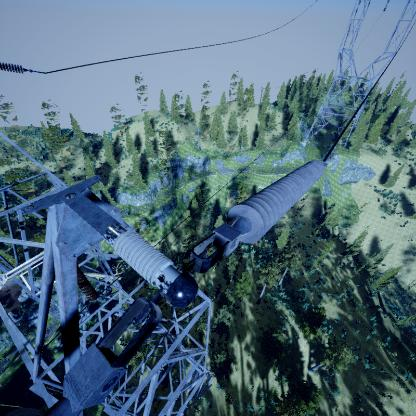insulator: (226, 160, 326, 245)
